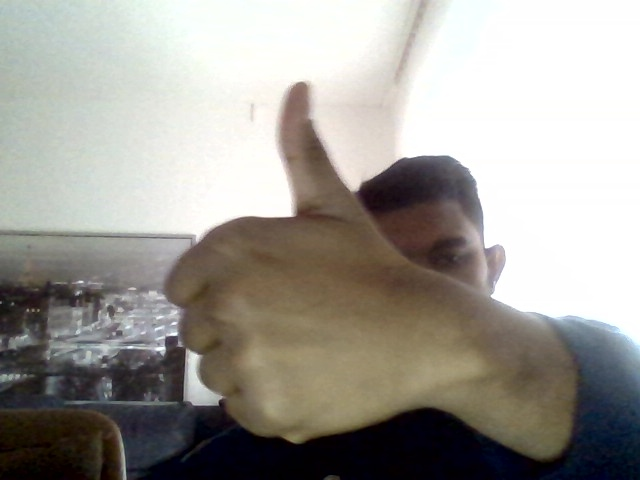tup: (166, 81, 434, 436)
